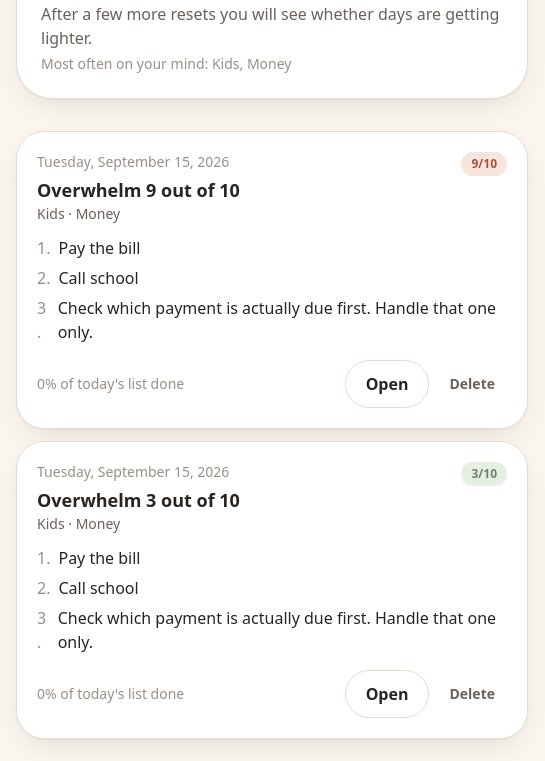
Scenario: history and welcome back › lists resets with overwhelm, areas and deletion
This screenshot has width=545, height=761.
(page scrolled)
Expected: the text "Overwhelm 9 out of 10" is shown 2 times, x1=37 y1=176 x2=240 y2=204; x1=37 y1=486 x2=240 y2=514
Expected: the text "After a few more resets you will see whether days are getting lighter." is shown, x1=41 y1=2 x2=503 y2=50
Click the button "Delete" below "Overwhelm 9 out of 10" at coordinates (472, 384), box x1=438 y1=360 x2=507 y2=408
(page scrolled)
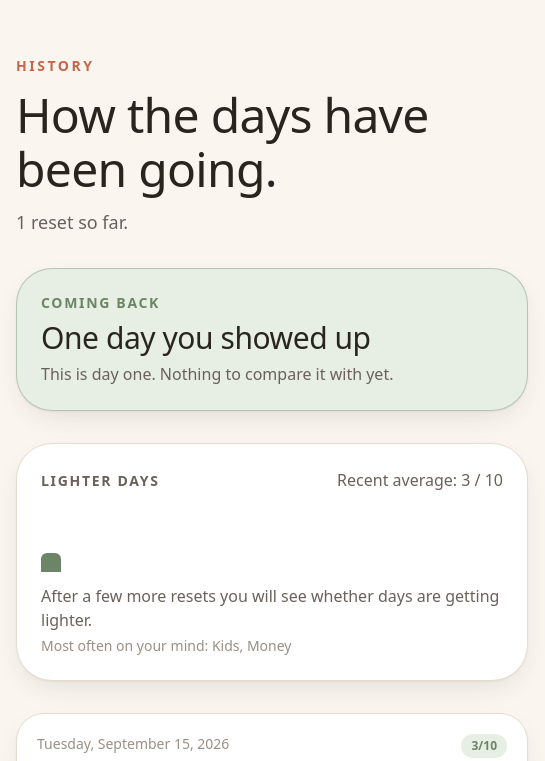
Now the text "1 reset so far." is shown, box x1=16 y1=210 x2=128 y2=234
